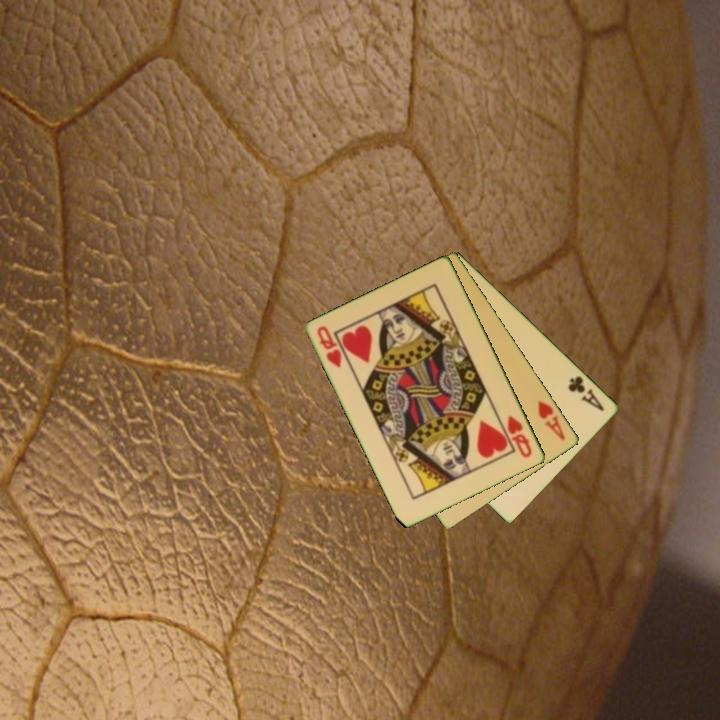Ac: (565, 372, 608, 414)
Ah: (534, 397, 568, 443)
Qh: (504, 412, 535, 461), (314, 322, 345, 371)
